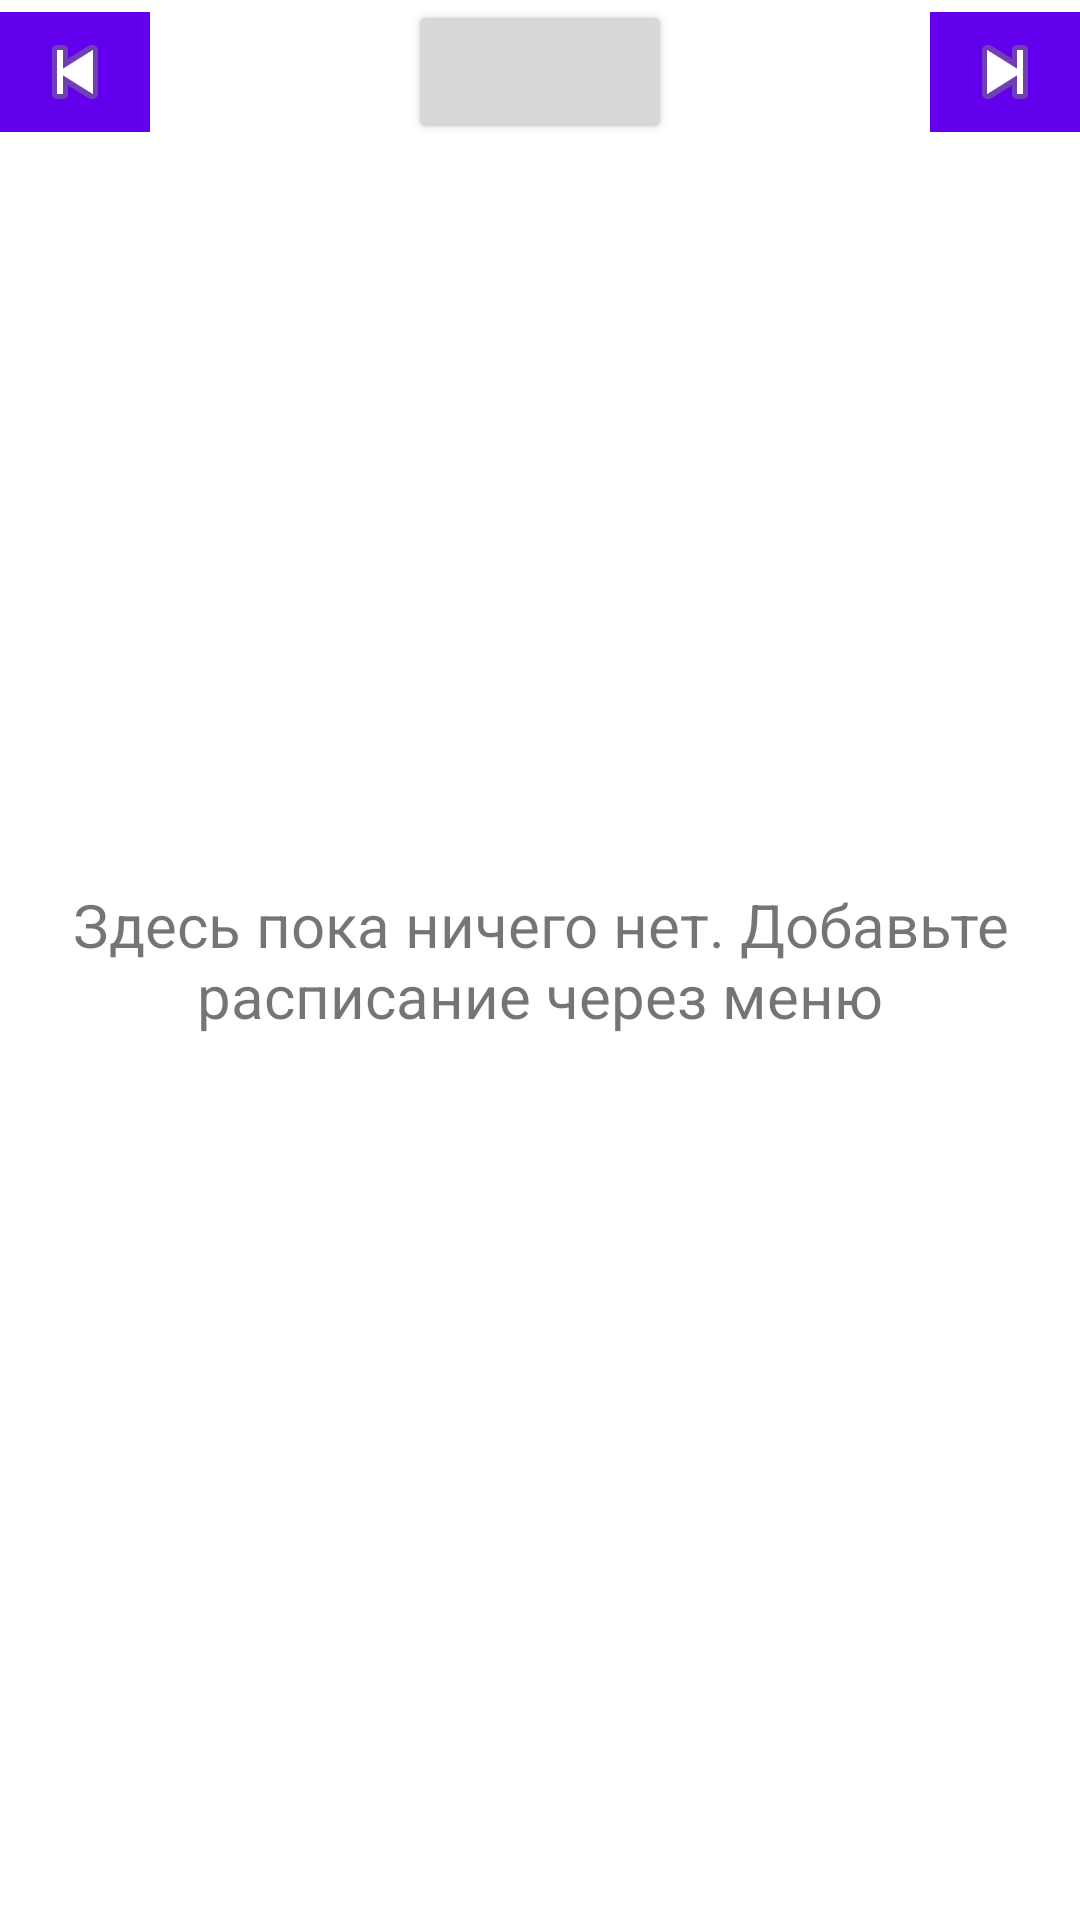

Icon bounding boxes for this 1080w x 1920h phone screenshot, format [x1, y1, x2, y2]:
next: [930, 12, 1080, 132]
previous: [0, 12, 150, 132]
